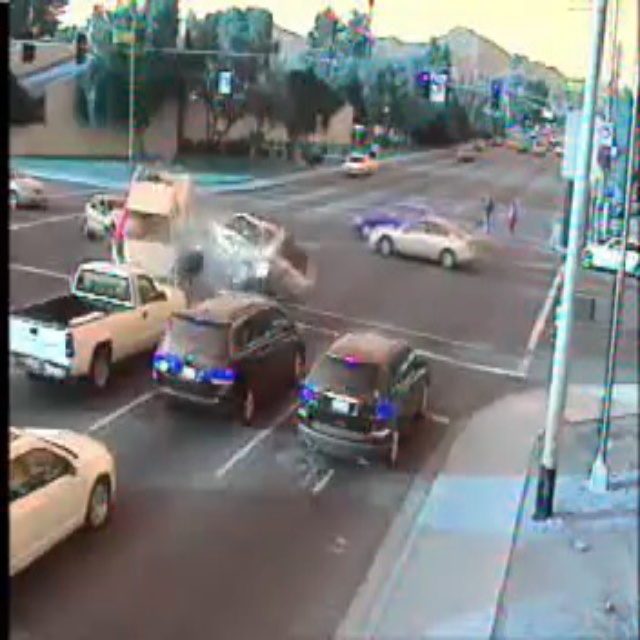acc: (81, 168, 312, 298)
